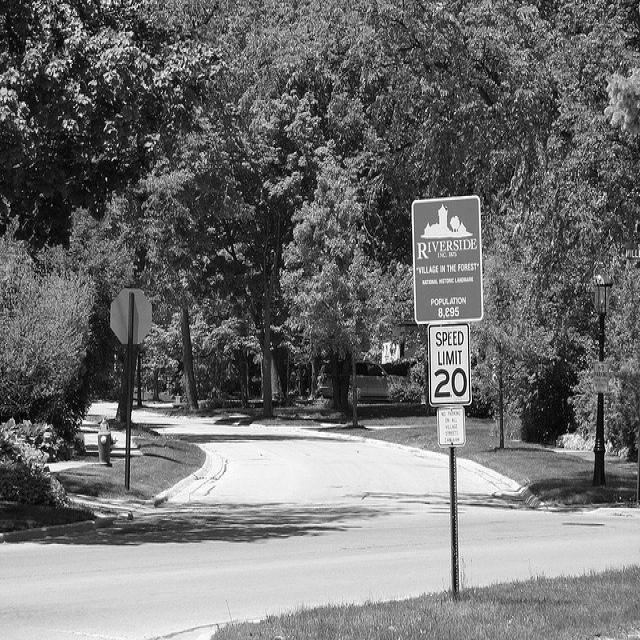car: (314, 359, 407, 397)
fire_hydrant: (95, 415, 116, 465)
pole: (122, 289, 137, 488), (591, 313, 608, 484), (444, 447, 463, 593)
